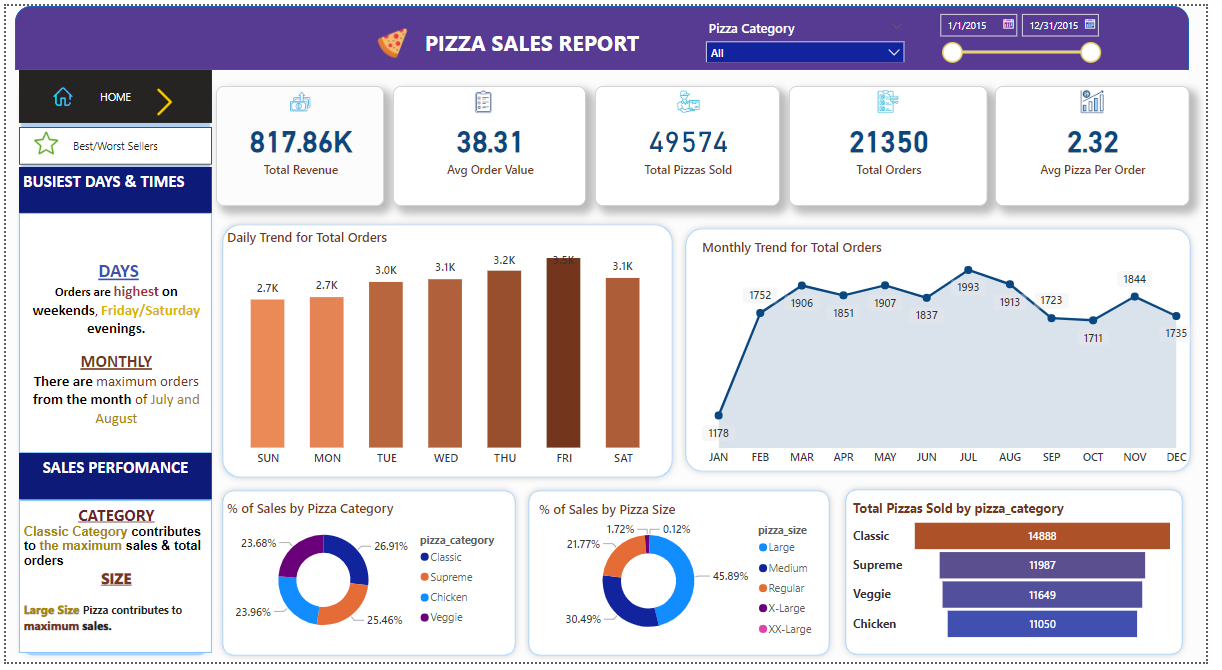

What the dashboard file says about the page in this screenshot:
{"tool":"powerbi","page":{"name":"HOME","canvas":[1500,820],"ordinal":0},"visuals":[{"type":"shape","box":[11.2,0,1467.5,80],"z":0},{"type":"textbox","box":[506.2,22.5,310,47.5],"z":1000},{"type":"image","box":[440,22.5,86.2,47.5],"z":2000},{"type":"card","fields":{"Values":["pizza_sales (1).Total Revenue"]},"box":[262.5,100,210,150],"z":3000},{"type":"card","fields":{"Values":["pizza_sales (1).Avg Order Value"]},"box":[483.8,100,241.2,150],"z":4000},{"type":"card","fields":{"Values":["pizza_sales (1).Total Pizzas Sold"]},"box":[736.2,100,231.2,150],"z":5000},{"type":"card","fields":{"Values":["pizza_sales (1).Total Orders"]},"box":[978.8,100,247.5,150],"z":6000},{"type":"card","fields":{"Values":["pizza_sales (1).Avg Pizza Sold"]},"box":[1236.2,100,242.5,150],"z":7000},{"type":"image","box":[331.2,100,72.5,38.8],"z":8000},{"type":"image","box":[561.2,100,70,38.8],"z":9000},{"type":"image","box":[812.5,100,80,38.8],"z":10000},{"type":"image","box":[1071.2,100,62.5,38.8],"z":11000},{"type":"image","box":[1321.2,100,72.5,38.8],"z":12000},{"type":"shape","box":[262.5,265,578.8,332.5],"z":13000},{"type":"columnChart","title":"Daily Trend for Total  Orders","fields":{"Category":["pizza_sales (1).Order Day"],"Y":["pizza_sales (1).Total Orders"]},"box":[271.2,277.5,557.5,307.5],"z":14000},{"type":"shape","box":[841.2,270,647.5,320],"z":15000},{"type":"areaChart","title":"Monthly Trend for Total Orders","fields":{"Category":["pizza_sales (1).Order Month"],"Y":["pizza_sales (1).Total Orders"]},"box":[865,290,623.8,292.5],"z":16000},{"type":"shape","box":[262.5,597.5,382.5,222.5],"z":17000},{"type":"shape","box":[645,597.5,392.5,222.5],"z":18000},{"type":"shape","box":[1041.2,596.2,437.5,222.5],"z":19000},{"type":"donutChart","title":"% of Sales by Pizza Category","fields":{"Category":["pizza_sales (1).pizza_category"],"Y":["pizza_sales (1).Total Revenue"]},"box":[271.2,616.2,360,181.2],"z":20000},{"type":"donutChart","title":"% of Sales by Pizza Size","fields":{"Y":["pizza_sales (1).Total Revenue"],"Category":["pizza_sales (1).pizza_size"]},"box":[661.2,617.5,363.8,181.2],"z":21000},{"type":"funnel","fields":{"Category":["pizza_sales (1).pizza_category"],"Y":["pizza_sales (1).Total Pizzas Sold"]},"box":[1053.8,616.2,411.2,181.2],"z":22000},{"type":"shape","box":[11.2,80,251.2,740],"z":23000},{"type":"textbox","box":[16.2,201.2,241.2,57.5],"z":24000},{"type":"textbox","box":[16.2,258.8,241.2,300],"z":25000},{"type":"textbox","box":[16.2,558.8,241.2,57.5],"z":26000},{"type":"textbox","box":[16.2,617.5,241.2,191.2],"z":27000},{"type":"slicer","fields":{"Values":["pizza_sales (1).pizza_category"]},"box":[865,11.2,267.5,58.8],"z":28000},{"type":"slicer","fields":{"Values":["pizza_sales (1).order_date"]},"box":[1155,0,222.5,80],"z":29000},{"type":"pageNavigator","box":[16.2,80,241.2,66.2],"z":29001},{"type":"pageNavigator","box":[16.2,151.2,241.2,47.5],"z":29002},{"type":"image","box":[153.8,97.5,88.8,45],"z":29003},{"type":"image","box":[16.2,151.2,68.8,40],"z":29004},{"type":"image","box":[51.2,96.2,40,33.8],"z":29005}]}

Visuals, with their boxes in screenshot pixels (x1, y1, x2, y2), scaled from the page's 1500x820 canvas onto the 1222x670 screenshot:
shape: (left=9, top=0, right=1205, bottom=65)
textbox: (left=412, top=18, right=665, bottom=57)
image: (left=358, top=18, right=429, bottom=57)
card - pizza_sales (1).Total Revenue: (left=214, top=82, right=385, bottom=204)
card - pizza_sales (1).Avg Order Value: (left=394, top=82, right=591, bottom=204)
card - pizza_sales (1).Total Pizzas Sold: (left=600, top=82, right=788, bottom=204)
card - pizza_sales (1).Total Orders: (left=797, top=82, right=999, bottom=204)
card - pizza_sales (1).Avg Pizza Sold: (left=1007, top=82, right=1205, bottom=204)
image: (left=270, top=82, right=329, bottom=113)
image: (left=457, top=82, right=514, bottom=113)
image: (left=662, top=82, right=727, bottom=113)
image: (left=873, top=82, right=924, bottom=113)
image: (left=1076, top=82, right=1135, bottom=113)
shape: (left=214, top=217, right=685, bottom=488)
"Daily Trend for Total  Orders" columnChart: (left=221, top=227, right=675, bottom=478)
shape: (left=685, top=221, right=1213, bottom=482)
"Monthly Trend for Total Orders" areaChart: (left=705, top=237, right=1213, bottom=476)
shape: (left=214, top=488, right=525, bottom=669)
shape: (left=525, top=488, right=845, bottom=669)
shape: (left=848, top=487, right=1205, bottom=669)
"% of Sales by Pizza Category" donutChart: (left=221, top=503, right=514, bottom=652)
"% of Sales by Pizza Size" donutChart: (left=539, top=505, right=835, bottom=653)
funnel - pizza_sales (1).pizza_category x pizza_sales (1).Total Pizzas Sold: (left=858, top=503, right=1193, bottom=652)
shape: (left=9, top=65, right=214, bottom=669)
textbox: (left=13, top=164, right=210, bottom=211)
textbox: (left=13, top=211, right=210, bottom=457)
textbox: (left=13, top=457, right=210, bottom=504)
textbox: (left=13, top=505, right=210, bottom=661)
slicer - pizza_sales (1).pizza_category: (left=705, top=9, right=923, bottom=57)
slicer - pizza_sales (1).order_date: (left=941, top=0, right=1122, bottom=65)
pageNavigator: (left=13, top=65, right=210, bottom=119)
pageNavigator: (left=13, top=124, right=210, bottom=162)
image: (left=125, top=80, right=198, bottom=116)
image: (left=13, top=124, right=69, bottom=156)
image: (left=42, top=79, right=74, bottom=106)
